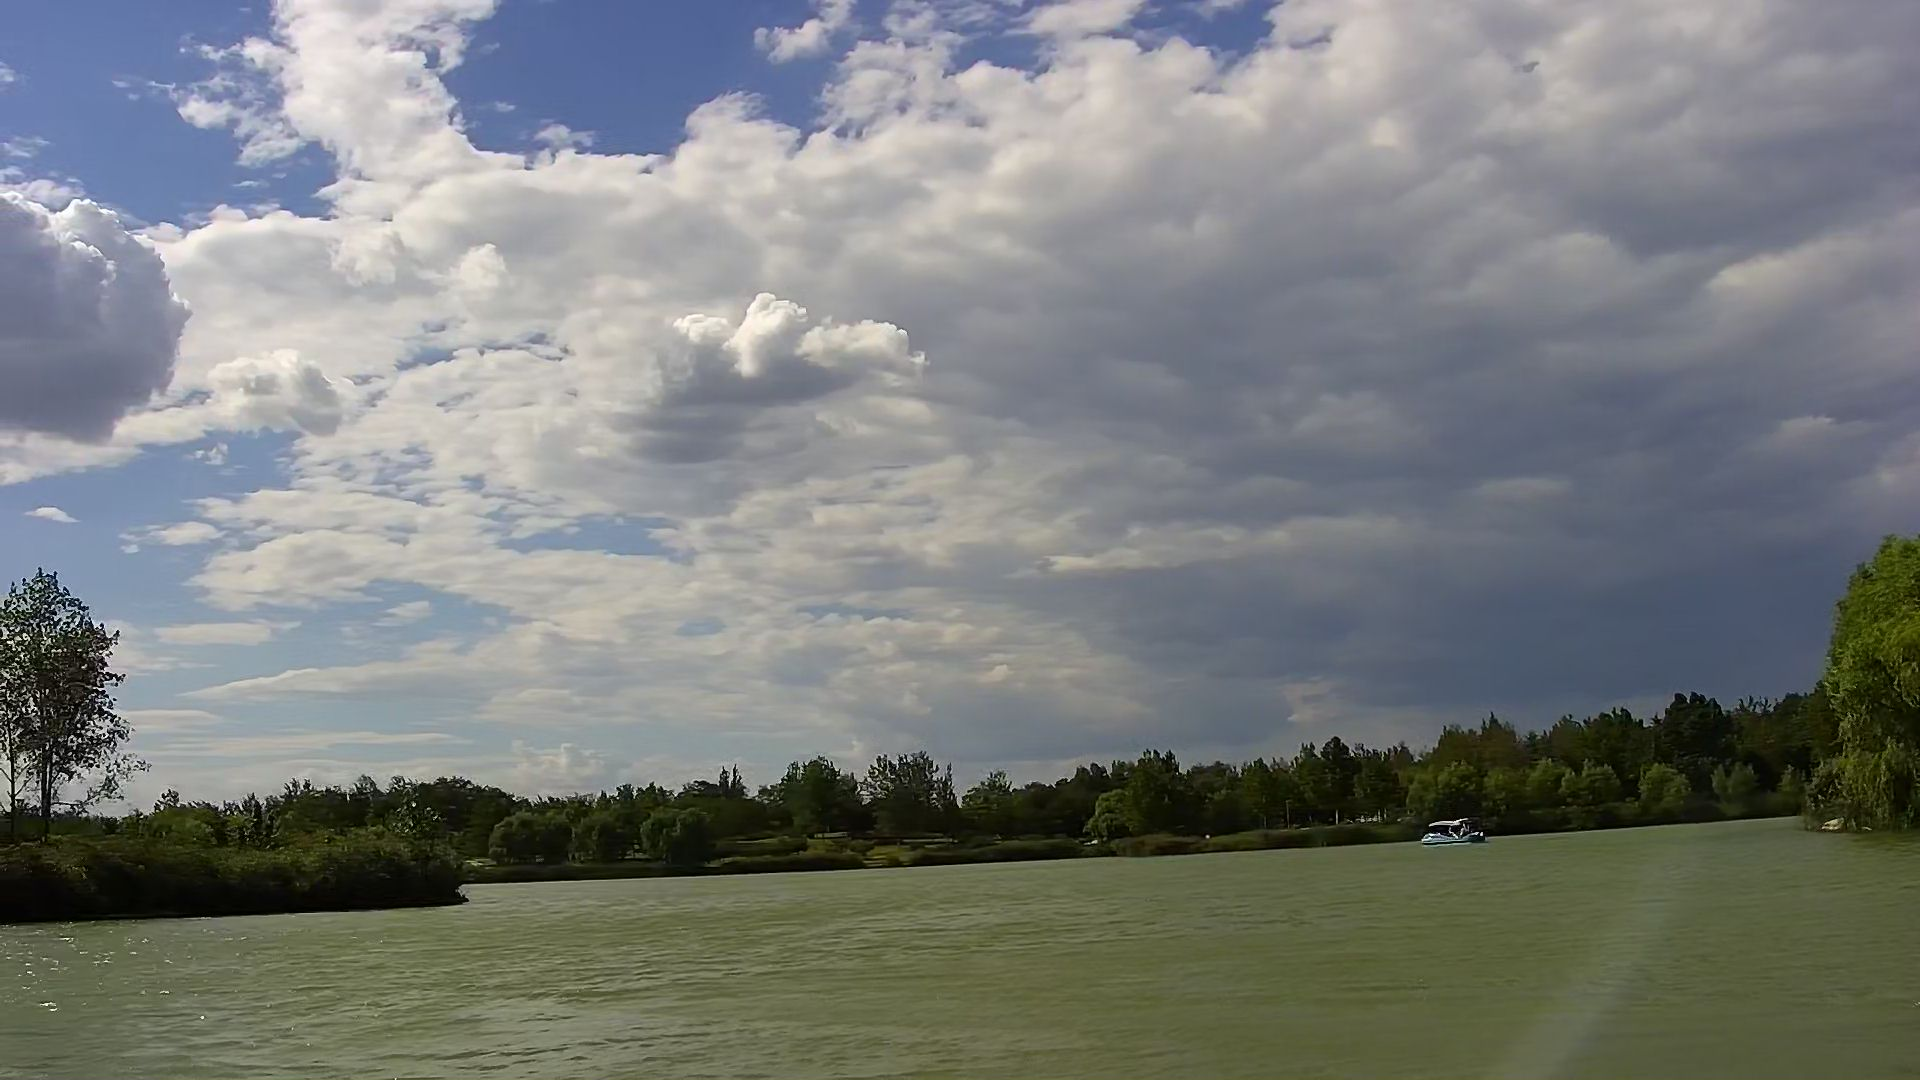boat: (1422, 818, 1490, 848)
rock: (1821, 812, 1849, 833)
